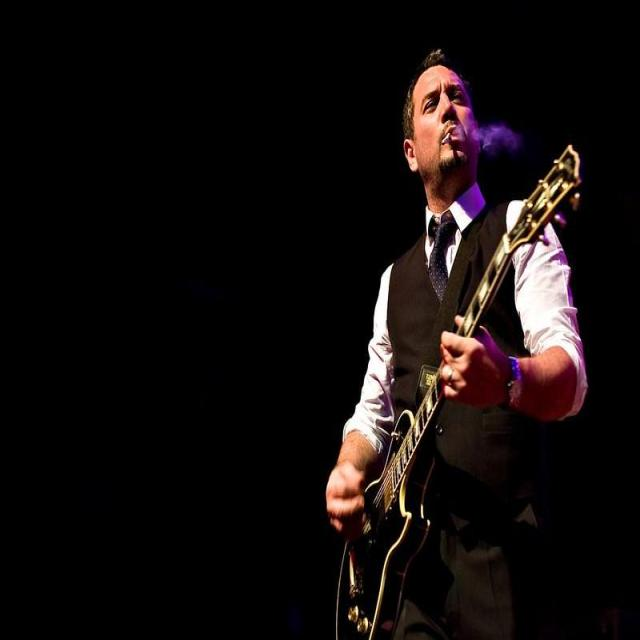guitar: (336, 368, 443, 639)
